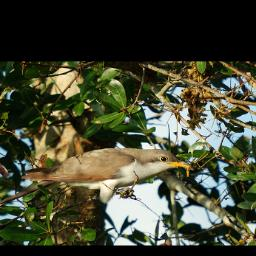Cuckoo: (18, 146, 195, 217)
